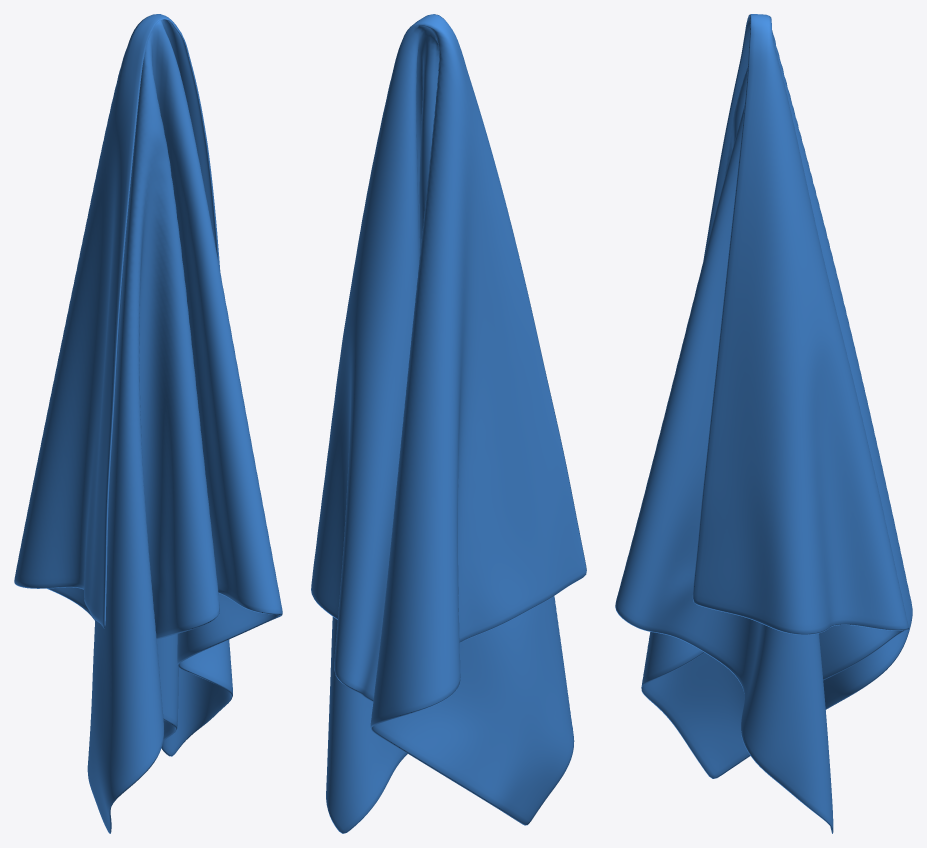
File: towel2.fbx
3 views of the same model, side by side, from view 1: azimuth 30°, elevation 25°; view 2: azimuth 150°, elevation 25°; view 3: azimuth 270°, elevation 25° (orthographic). The views are drawn at different scales.
Visible parts, largest first — view 1: Towerl; view 2: Towerl; view 3: Towerl.
Part boxes in pixels (x1=…): Towerl: x1=14, y1=14, x2=282, y2=833; Towerl: x1=311, y1=14, x2=586, y2=833; Towerl: x1=615, y1=14, x2=912, y2=833.
Bounding box in the file's own units: 72.85 × 276 × 93.03.
